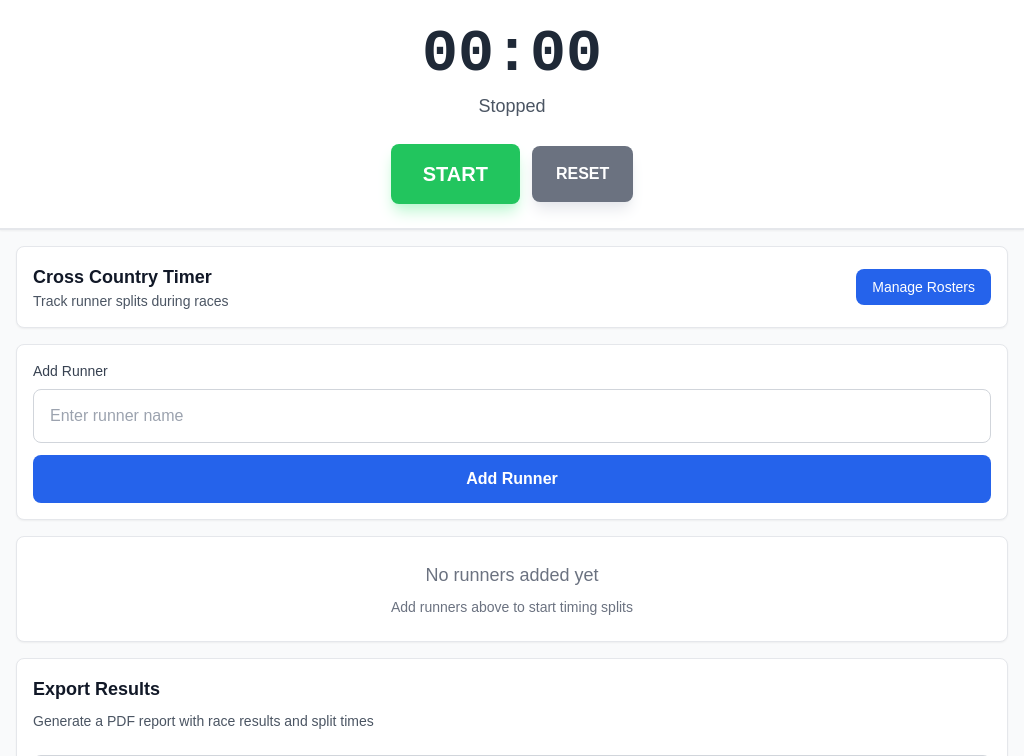
Test: Complete Timing Workflows Integration › Error Recovery Scenarios › should handle timer errors gracefully without losing runner data
The width and height of the screenshot is (1024, 756).
Type "Test Runner" into the field with placeholder "Enter runner name" at (512, 416), box [33,389,991,443]
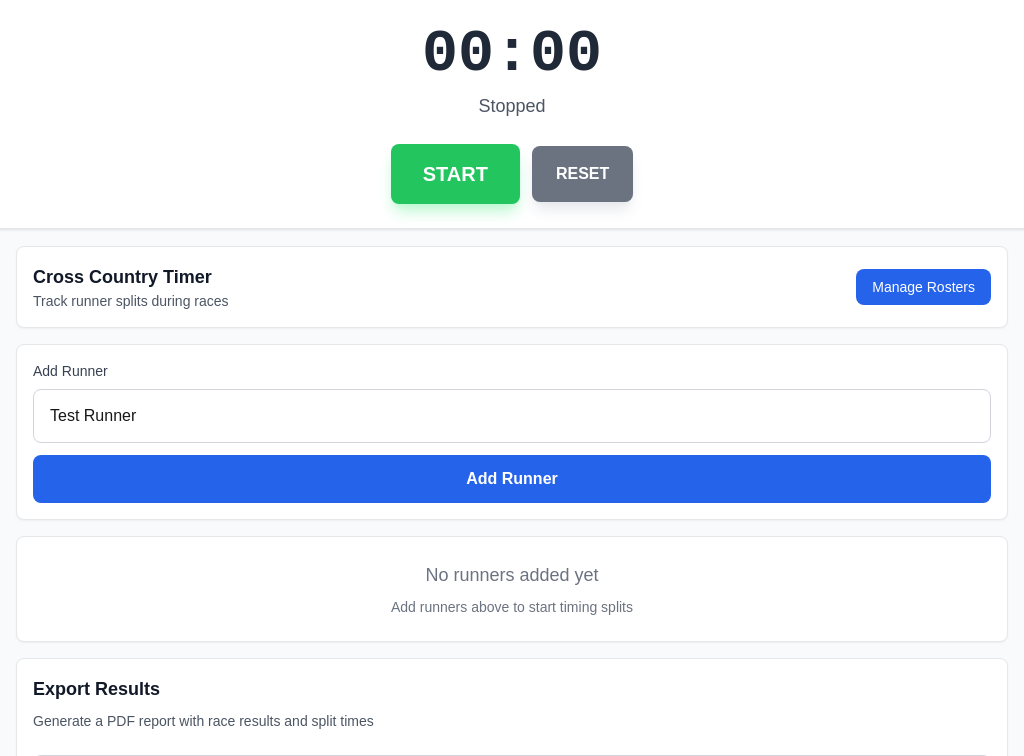
Click the button "Add Runner" at (512, 479), box [33,455,991,503]
(page scrolled)
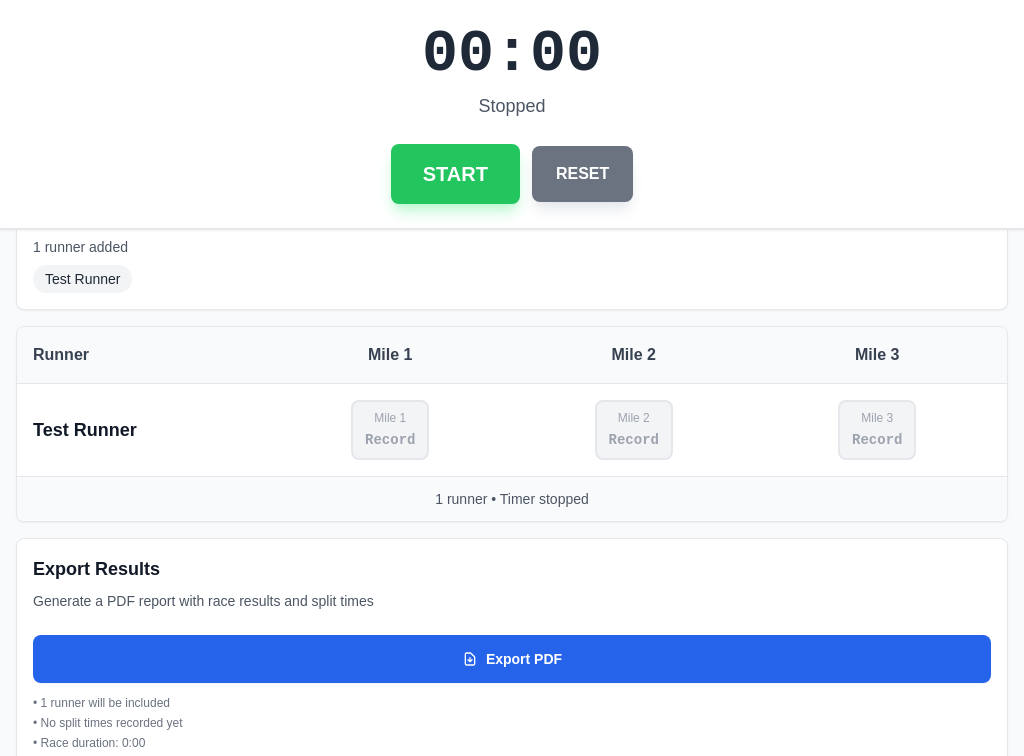
Check: the text "Test Runner" is shown 3 times
Check: the text "1 runner • Timer stopped" is shown, box [435,491,589,507]
